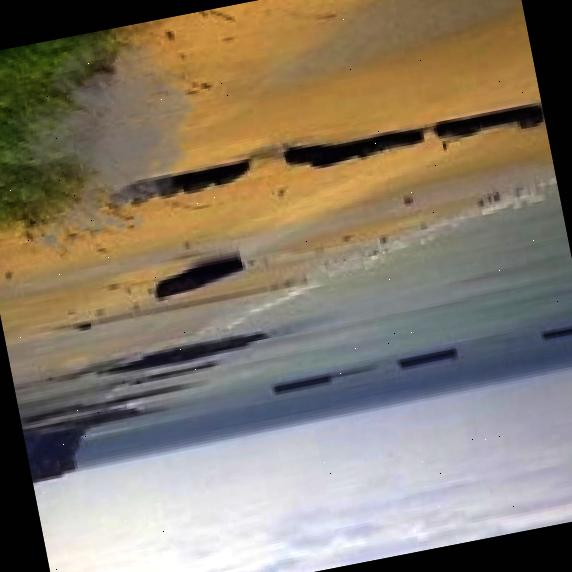smoke: (0, 14, 228, 267)
